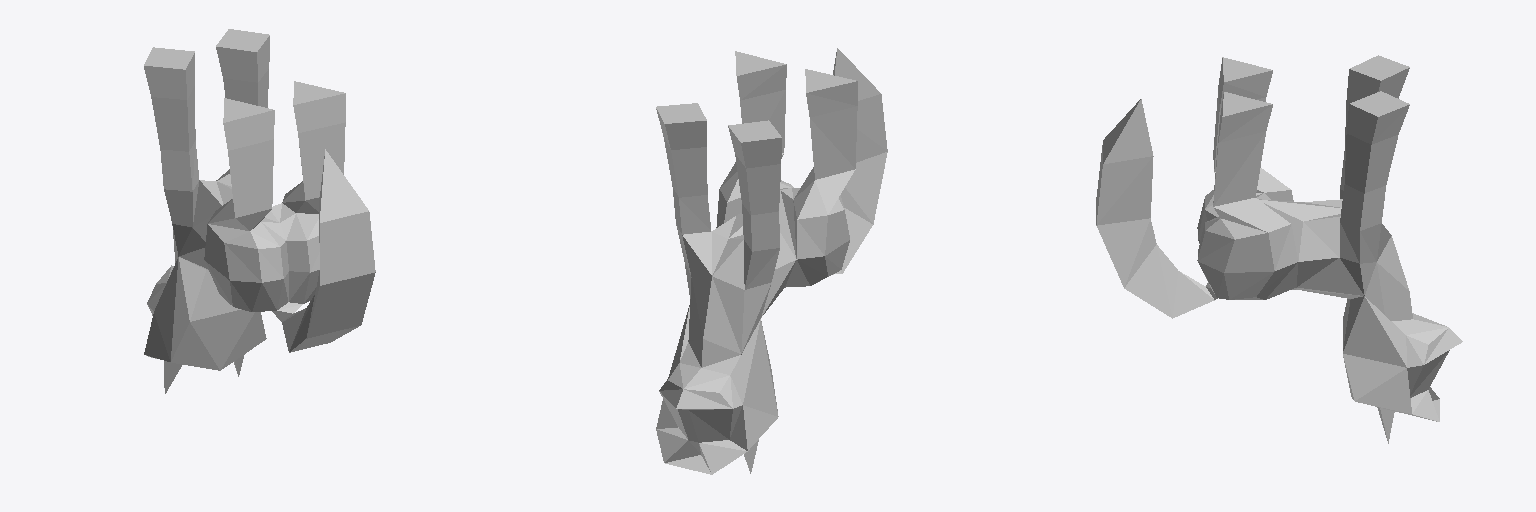
Rendered from PONY_000002.obj.
3 renders of one model, left to right at view 1: azimuth 30°, elevation 25°; view 2: azimuth 150°, elevation 25°; view 3: azimuth 270°, elevation 25°, orthographic.
Visible parts, largest first — view 1: pony; view 2: pony; view 3: pony.
Boxes of the visible parts, <box> form: pony: <box>144,29,375,393</box>; pony: <box>656,48,887,474</box>; pony: <box>1096,55,1462,443</box>.
Size of the model in its own units: 3.55 by 9.13 by 8.92.